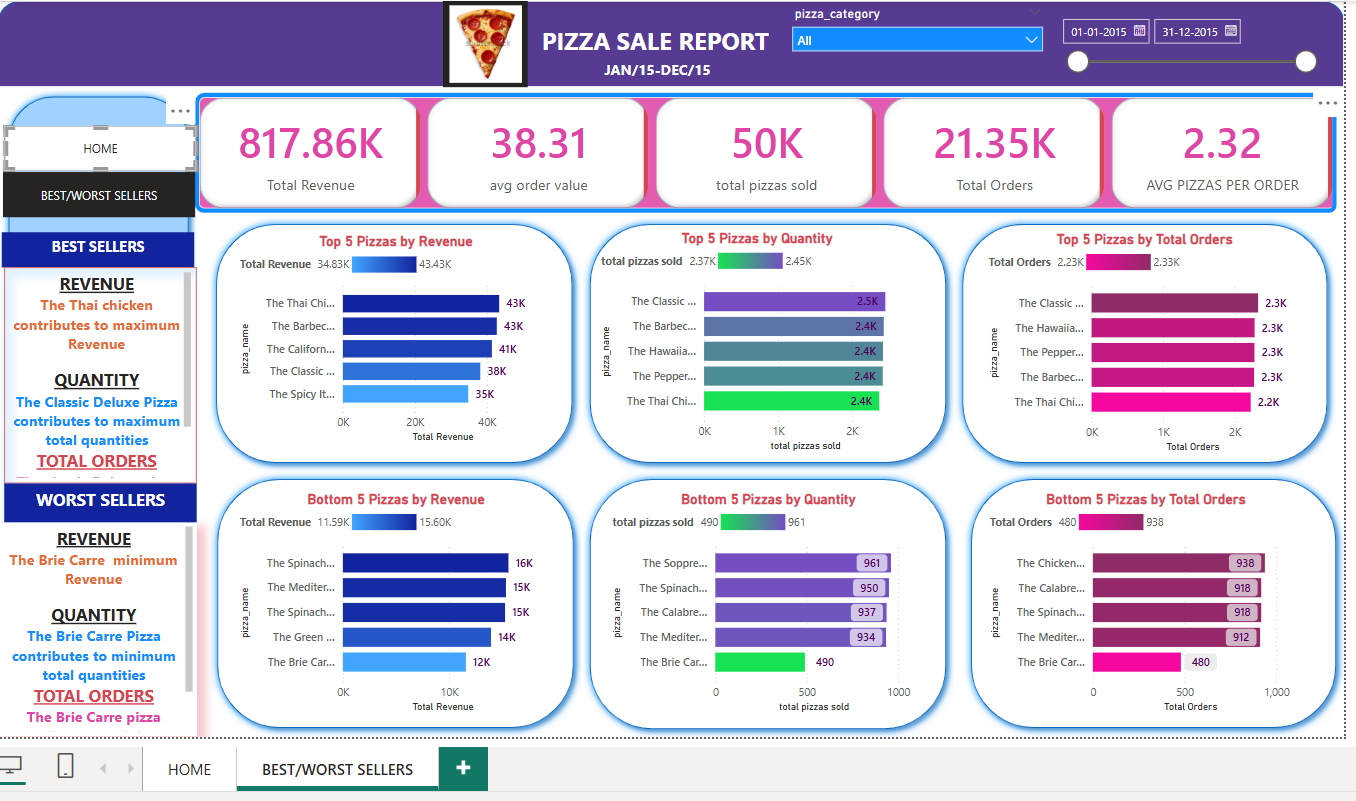

Layout of this report page (visuals, bound fields, positions):
{"tool":"powerbi","page":{"name":"BEST/WORST SELLERS","canvas":[1500,820],"ordinal":1},"visuals":[{"type":"shape","box":[2.8,97.5,218.6,722.8],"z":0},{"type":"cardVisual","fields":{"Data":["pizza_sales.Total Revenue","pizza_sales.avg order value","pizza_sales.total pizzas sold","pizza_sales.Total Orders","pizza_sales.AVG PIZZAS PER ORDER"]},"box":[214.5,97.5,1285.4,143.4],"z":1000},{"type":"shape","box":[0,0,1499.9,96.1],"z":2000},{"type":"textbox","box":[591,20.5,283.7,55.2],"z":3000},{"type":"textbox","box":[649.3,59.9,171.8,36.2],"z":4000},{"type":"image","box":[496.4,0,94.6,96.1],"z":5000},{"type":"shape","box":[234,239.5,415,284.1],"z":6000},{"type":"textbox","box":[0,580.7,221.4,238.1],"z":12000},{"type":"textbox","box":[4.2,257.6,214.5,39],"z":16000},{"type":"textbox","box":[7,296.6,214.5,240.9],"z":17000},{"type":"textbox","box":[7,537.6,214.5,43.2],"z":18000},{"type":"slicer","fields":{"Values":["pizza_sales.pizza_category"]},"box":[874.6,0,299.4,96.1],"z":19000},{"type":"slicer","fields":{"Values":["pizza_sales.order_date"]},"box":[1174,9.7,303.6,86.3],"z":20000},{"type":"shape","box":[650.4,239.5,415,284.1],"z":20001},{"type":"shape","box":[1065.4,239.5,424.8,284.1],"z":20002},{"type":"shape","box":[235.4,523.6,415,295.2],"z":20003},{"type":"shape","box":[650.4,523.6,415,296.6],"z":20004},{"type":"shape","box":[1075.1,523.6,424.8,295.2],"z":20005},{"type":"barChart","title":"Top 5 Pizzas by Revenue","fields":{"Category":["pizza_sales.pizza_name"],"Y":["pizza_sales.Total Revenue"]},"box":[264.6,259,357.9,238.1],"z":20006},{"type":"barChart","title":"Bottom 5 Pizzas by Revenue","fields":{"Category":["pizza_sales.pizza_name"],"Y":["pizza_sales.Total Revenue"]},"box":[264.6,545.9,357.9,252.1],"z":20007},{"type":"barChart","title":"Top 5 Pizzas by Quantity","fields":{"Category":["pizza_sales.pizza_name"],"Y":["pizza_sales.total pizzas sold"]},"box":[666.6,255.3,357.7,252.2],"z":20008},{"type":"barChart","title":"Bottom 5 Pizzas by Quantity","fields":{"Category":["pizza_sales.pizza_name"],"Y":["pizza_sales.total pizzas sold"]},"box":[679.2,545.3,357.7,252.2],"z":20009},{"type":"barChart","title":"Top 5 Pizzas by Total Orders","fields":{"Category":["pizza_sales.pizza_name"],"Y":["pizza_sales.Total Orders"]},"box":[1098.4,256.9,357.7,252.2],"z":20010},{"type":"barChart","title":"Bottom 5 Pizzas by Total Orders","fields":{"Category":["pizza_sales.pizza_name"],"Y":["pizza_sales.Total Orders"]},"box":[1100,545.3,357.7,252.2],"z":20011},{"type":"pageNavigator","box":[5.6,190.8,214.5,50.1],"z":20013},{"type":"pageNavigator","box":[7,139.3,214.5,50.1],"z":20014}]}

Visuals, with their boxes on the page's 1500x820 design canvas (x1, y1, x2, y2). These are canvas units, not pixel positions in the 1356x801 screenshot, which may show the page scaled, cropped or inside an application window:
shape: x1=3 y1=98 x2=221 y2=820
cardVisual - pizza_sales.Total Revenue x pizza_sales.avg order value: x1=214 y1=98 x2=1500 y2=241
shape: x1=0 y1=0 x2=1500 y2=96
textbox: x1=591 y1=20 x2=875 y2=76
textbox: x1=649 y1=60 x2=821 y2=96
image: x1=496 y1=0 x2=591 y2=96
shape: x1=234 y1=240 x2=649 y2=524
textbox: x1=0 y1=581 x2=221 y2=819
textbox: x1=4 y1=258 x2=219 y2=297
textbox: x1=7 y1=297 x2=222 y2=538
textbox: x1=7 y1=538 x2=222 y2=581
slicer - pizza_sales.pizza_category: x1=875 y1=0 x2=1174 y2=96
slicer - pizza_sales.order_date: x1=1174 y1=10 x2=1478 y2=96
shape: x1=650 y1=240 x2=1065 y2=524
shape: x1=1065 y1=240 x2=1490 y2=524
shape: x1=235 y1=524 x2=650 y2=819
shape: x1=650 y1=524 x2=1065 y2=820
shape: x1=1075 y1=524 x2=1500 y2=819
"Top 5 Pizzas by Revenue" barChart: x1=265 y1=259 x2=622 y2=497
"Bottom 5 Pizzas by Revenue" barChart: x1=265 y1=546 x2=622 y2=798
"Top 5 Pizzas by Quantity" barChart: x1=667 y1=255 x2=1024 y2=508
"Bottom 5 Pizzas by Quantity" barChart: x1=679 y1=545 x2=1037 y2=798
"Top 5 Pizzas by Total Orders" barChart: x1=1098 y1=257 x2=1456 y2=509
"Bottom 5 Pizzas by Total Orders" barChart: x1=1100 y1=545 x2=1458 y2=798
pageNavigator: x1=6 y1=191 x2=220 y2=241
pageNavigator: x1=7 y1=139 x2=222 y2=189
